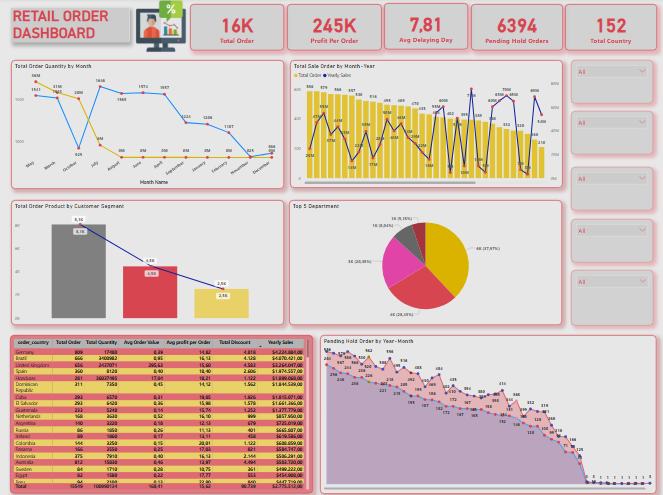

This screenshot's page, from the dashboard's own definition file:
{"tool":"powerbi","page":{"name":"Order","canvas":[1930,1450],"ordinal":2},"visuals":[{"type":"textbox","title":"RETAIL ORDER DASHBOARD","box":[37,29.6,344.4,100],"z":0},{"type":"card","fields":{"Values":["_Measures.Total Order"]},"box":[556.9,17.6,272.5,135.3],"z":1000},{"type":"card","fields":{"Values":["_Measures.Profit Per Order"]},"box":[837.3,17.6,274.5,135.3],"z":2000},{"type":"card","fields":{"Values":["_Measures.Avg Delaying Day"]},"box":[1120.6,14.7,244.1,135.3],"z":3000},{"type":"card","fields":{"Values":["income_2024.Pending Hold Orders"]},"box":[1370.6,17.6,266.7,135.3],"z":4000},{"type":"slicer","fields":{"Values":["income_2024.category_name"]},"box":[1661.5,328.2,238.5,125.6],"z":5000},{"type":"slicer","fields":{"Values":["income_2024.order_country"]},"box":[1661.5,489.7,238.5,125.6],"z":6000},{"type":"slicer","fields":{"Values":["income_2024.customer_segment"]},"box":[1661.5,641,238.5,125.6],"z":7000},{"type":"slicer","fields":{"Values":["Calendar.Year"]},"box":[1661.5,179.5,238.5,125.6],"z":8000},{"type":"slicer","fields":{"Values":["income_2024.order_region"]},"box":[1660.5,789.5,239.5,160.5],"z":9000},{"type":"lineChart","title":"Total Order Quantity by Month ","fields":{"Category":["Calendar.Month Name"],"Y2":["_Measures.Total Quantity"],"Y":["_Measures.Total Order"]},"box":[36.8,178.9,792.1,373.7],"z":10000},{"type":"lineStackedColumnComboChart","title":"Total Sale Order by Month-Year","fields":{"Category":["Calendar.Year-Month"],"Y":["_Measures.Total Order"],"Y2":["_Measures.Yearly Sales"]},"box":[845.7,180,791.4,371.4],"z":11000},{"type":"lineClusteredColumnComboChart","title":"Total Order Product by Customer Segment","fields":{"Category":["income_2024.customer_segment"],"Y":["_Measures.Total Order"],"Y2":["_Measures.Total Product"]},"box":[36.8,586.8,792.1,363.2],"z":12000},{"type":"areaChart","title":"Pending Hold Order by Year-Month","fields":{"Category":["Calendar.Year-Month"],"Y":["income_2024.Pending Hold Orders"],"Y2":["Count(income_2024.order_id)"]},"box":[934.2,976.3,976.3,460.5],"z":13000},{"type":"pivotTable","title":"Yearly Sales by Order Country","fields":{"Rows":["income_2024.order_country"],"Values":["_Measures.Total Order","_Measures.Total Quantity","_Measures.Avg Order Value","_Measures.Avg profit per Order","_Measures.Total Discount","_Measures.Yearly Sales"]},"box":[36.2,976.6,878.7,459.6],"z":14000},{"type":"card","fields":{"Values":["Count(income_2024.order_country)"]},"box":[1645.1,17.6,266.7,135.3],"z":15000},{"type":"pieChart","title":"Top 5 Department","fields":{"Category":["income_2024.department_name"],"Y":["_Measures.Total Order"]},"box":[844.7,586.8,792.1,363.2],"z":16000},{"type":"image","box":[322.2,0,300,163],"z":17000}]}

Visuals, with their boxes in screenshot pixels (x1, y1, x2, y2), scaled from the page's 1930x1450 canvas onto the 663x495 screenshot:
"RETAIL ORDER DASHBOARD" textbox: l=13, t=10, r=131, b=44
card - _Measures.Total Order: l=191, t=6, r=285, b=52
card - _Measures.Profit Per Order: l=288, t=6, r=382, b=52
card - _Measures.Avg Delaying Day: l=385, t=5, r=469, b=51
card - income_2024.Pending Hold Orders: l=471, t=6, r=562, b=52
slicer - income_2024.category_name: l=571, t=112, r=653, b=155
slicer - income_2024.order_country: l=571, t=167, r=653, b=210
slicer - income_2024.customer_segment: l=571, t=219, r=653, b=262
slicer - Calendar.Year: l=571, t=61, r=653, b=104
slicer - income_2024.order_region: l=570, t=270, r=653, b=324
"Total Order Quantity by Month " lineChart: l=13, t=61, r=285, b=189
"Total Sale Order by Month-Year" lineStackedColumnComboChart: l=291, t=61, r=562, b=188
"Total Order Product by Customer Segment" lineClusteredColumnComboChart: l=13, t=200, r=285, b=324
"Pending Hold Order by Year-Month" areaChart: l=321, t=333, r=656, b=490
"Yearly Sales by Order Country" pivotTable: l=12, t=333, r=314, b=490
card - Count(income_2024.order_country): l=565, t=6, r=657, b=52
"Top 5 Department" pieChart: l=290, t=200, r=562, b=324
image: l=111, t=0, r=214, b=56
